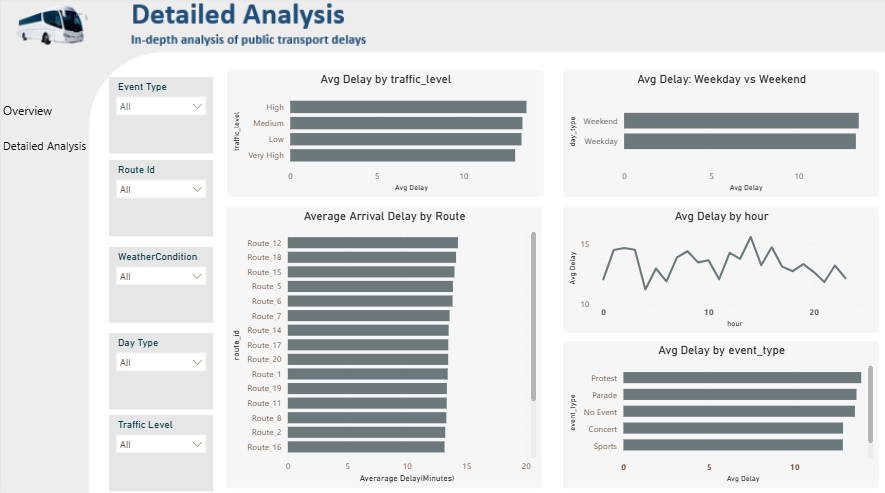

The page's visual inventory and layout, read from the dashboard file:
{"tool":"powerbi","page":{"name":"Detailed Analysis","canvas":[1280,720],"ordinal":1},"visuals":[{"type":"clusteredBarChart","title":"Average Arrival Delay by Route","fields":{"Category":["transport_delays_cleaned.route_id"],"Y":["Avg(transport_delays_cleaned.actual_arrival_delay_min)"]},"box":[324,302.4,455,404.6],"z":0},{"type":"lineChart","fields":{"Category":["transport_delays_cleaned.hour"],"Y":["transport_delays_cleaned.Avg Delay"]},"box":[809.3,302.4,455,181.4],"z":1000},{"type":"clusteredBarChart","title":"Avg Delay: Weekday vs Weekend","fields":{"Category":["transport_delays_cleaned.day_type"],"Y":["transport_delays_cleaned.Avg Delay"]},"box":[809.3,105.1,455,182.9],"z":2000},{"type":"clusteredBarChart","fields":{"Category":["transport_delays_cleaned.traffic_level"],"Y":["transport_delays_cleaned.Avg Delay"]},"box":[325.7,105.7,455.7,182.9],"z":3000},{"type":"clusteredBarChart","fields":{"Category":["transport_delays_cleaned.event_type"],"Y":["transport_delays_cleaned.Avg Delay"]},"box":[809.3,495.4,455,211.7],"z":4000},{"type":"slicer","fields":{"Values":["transport_delays_cleaned.route_id"]},"box":[155.5,234.7,150,110],"z":5000},{"type":"slicer","fields":{"Values":["transport_delays_cleaned.day_type"]},"box":[155.5,483.8,150,110],"z":6000},{"type":"slicer","fields":{"Values":["transport_delays_cleaned.traffic_level"]},"box":[155.5,601.9,150,110],"z":7000},{"type":"slicer","fields":{"Values":["transport_delays_cleaned.weather_condition"]},"box":[155.5,360,149.8,109.4],"z":8000},{"type":"slicer","fields":{"Values":["transport_delays_cleaned.event_type"]},"box":[155.5,115.2,150,110],"z":9000},{"type":"pageNavigator","box":[0,132.5,133.9,92.2],"z":10000}]}

Visuals, with their boxes on the page's 1280x720 design canvas (x1, y1, x2, y2). These are canvas units, not pixel positions in the 885x493 screenshot, which may show the page scaled, cropped or inside an application window:
"Average Arrival Delay by Route" clusteredBarChart: 324 302 779 707
lineChart - transport_delays_cleaned.hour x transport_delays_cleaned.Avg Delay: 809 302 1264 484
"Avg Delay: Weekday vs Weekend" clusteredBarChart: 809 105 1264 288
clusteredBarChart - transport_delays_cleaned.traffic_level x transport_delays_cleaned.Avg Delay: 326 106 781 289
clusteredBarChart - transport_delays_cleaned.event_type x transport_delays_cleaned.Avg Delay: 809 495 1264 707
slicer - transport_delays_cleaned.route_id: 156 235 306 345
slicer - transport_delays_cleaned.day_type: 156 484 306 594
slicer - transport_delays_cleaned.traffic_level: 156 602 306 712
slicer - transport_delays_cleaned.weather_condition: 156 360 305 469
slicer - transport_delays_cleaned.event_type: 156 115 306 225
pageNavigator: 0 132 134 225
